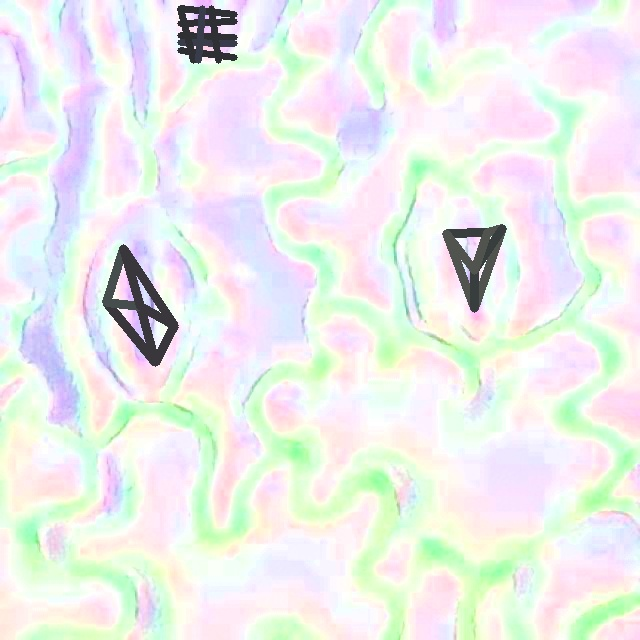open: (102, 245, 178, 366), (442, 228, 506, 312), (178, 5, 237, 63)
